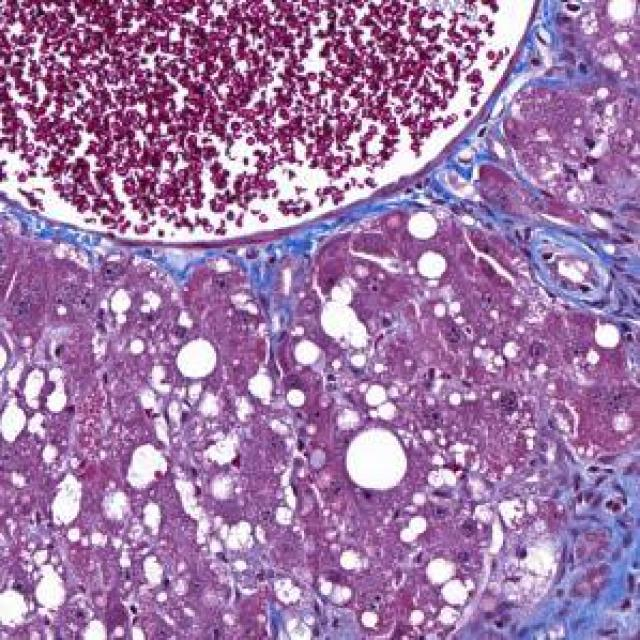fibrosis: (456, 178, 640, 321), (520, 464, 640, 640)
